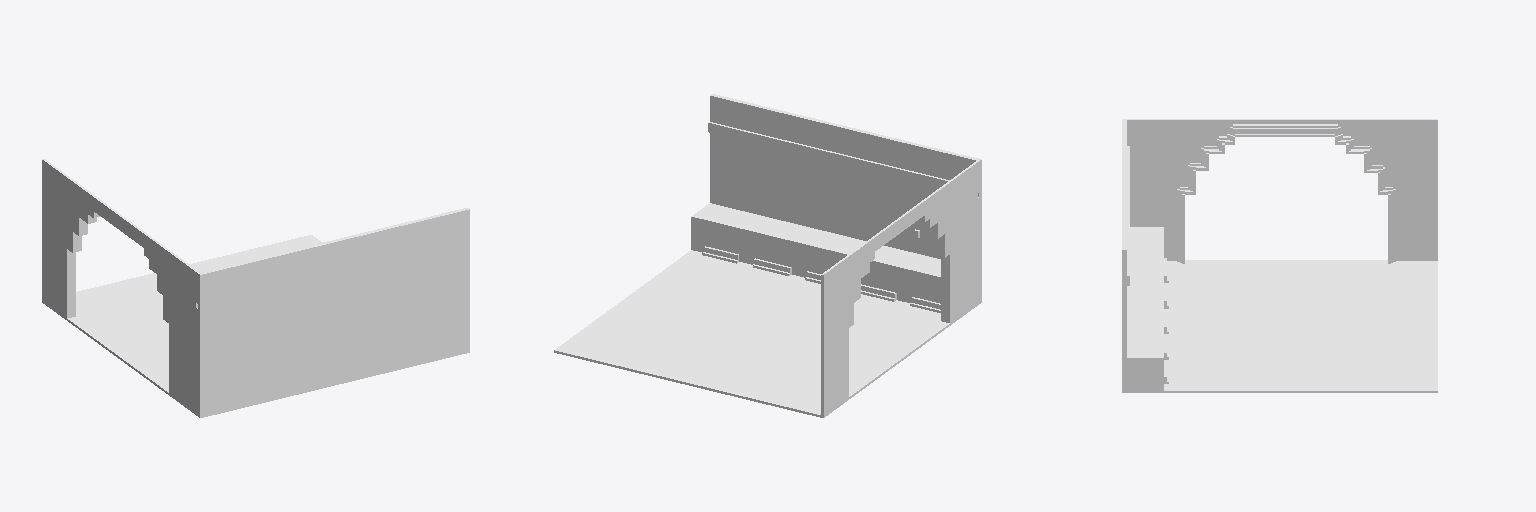
The model's file is Tunnel_EXIT.obj.
The picture shows the model from 3 angles: view 1: azimuth 30°, elevation 25°; view 2: azimuth 150°, elevation 25°; view 3: azimuth 270°, elevation 25°; orthographic projection.
Parts seen in each view (by area): view 1: object 1; view 2: object 1; view 3: object 1.
Boxes of the visible parts, x1=… form: object 1: x1=42, y1=159, x2=469, y2=417; object 1: x1=554, y1=94, x2=981, y2=417; object 1: x1=1122, y1=119, x2=1437, y2=392.
Size of the model in its own units: 11.8 by 6 by 12.